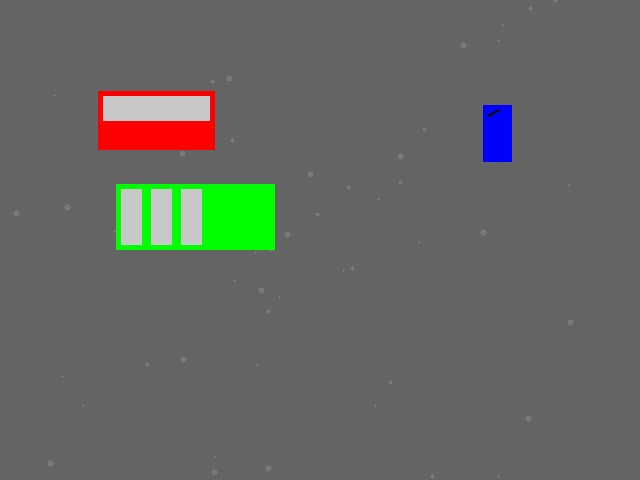bus: (116, 184, 274, 249)
car: (98, 91, 214, 149)
motorcycle: (483, 105, 511, 161)
